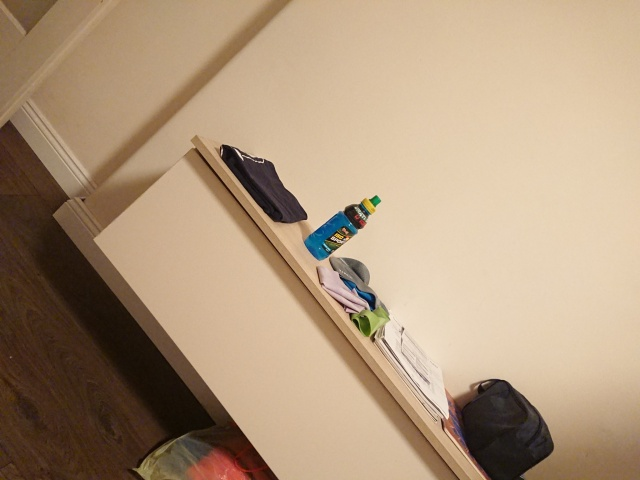Vindi Iso Sport Forest Strawberries 500mL: (303, 193, 382, 262)
